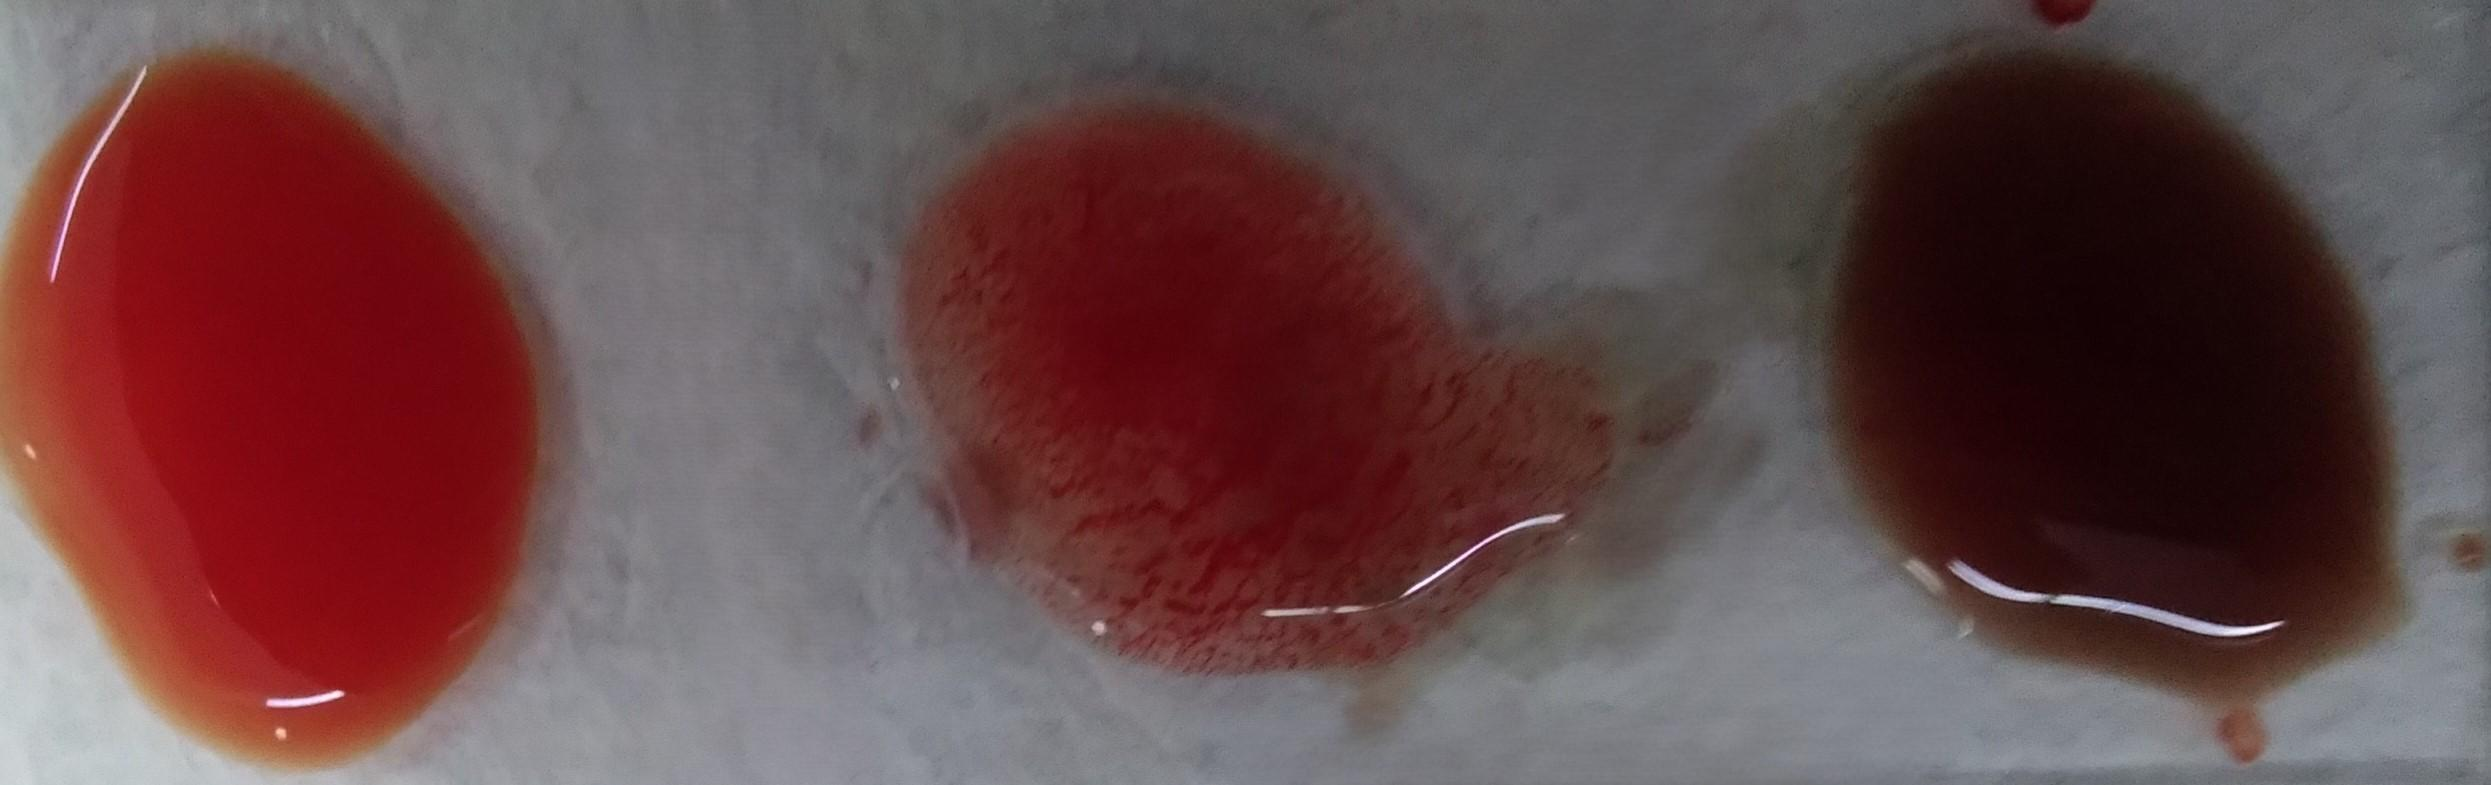D: (906, 73, 1527, 680)
